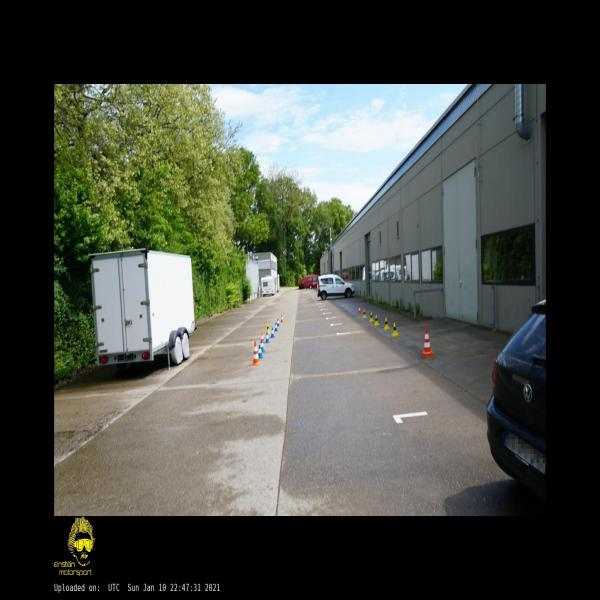blue_cone: (258, 345, 264, 358), (265, 332, 270, 343), (260, 339, 264, 352), (270, 328, 275, 338), (274, 322, 278, 332), (276, 318, 280, 326)
large_orange_cone: (422, 327, 433, 355), (252, 340, 260, 366)
orange_cone: (261, 332, 264, 344), (358, 305, 361, 314), (281, 315, 283, 322)
yellow_cone: (392, 322, 398, 336), (384, 317, 390, 329), (374, 314, 379, 326), (362, 309, 367, 319), (369, 312, 374, 321), (266, 324, 270, 333)
